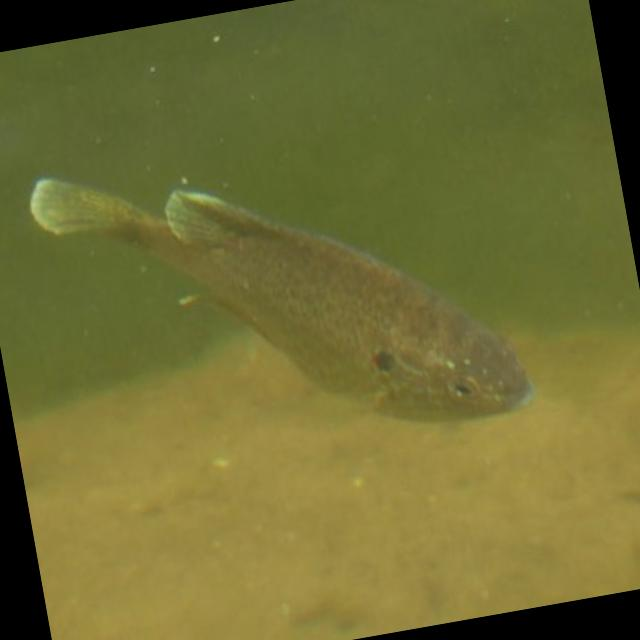Gunes Levregi: (23, 94, 546, 508)
